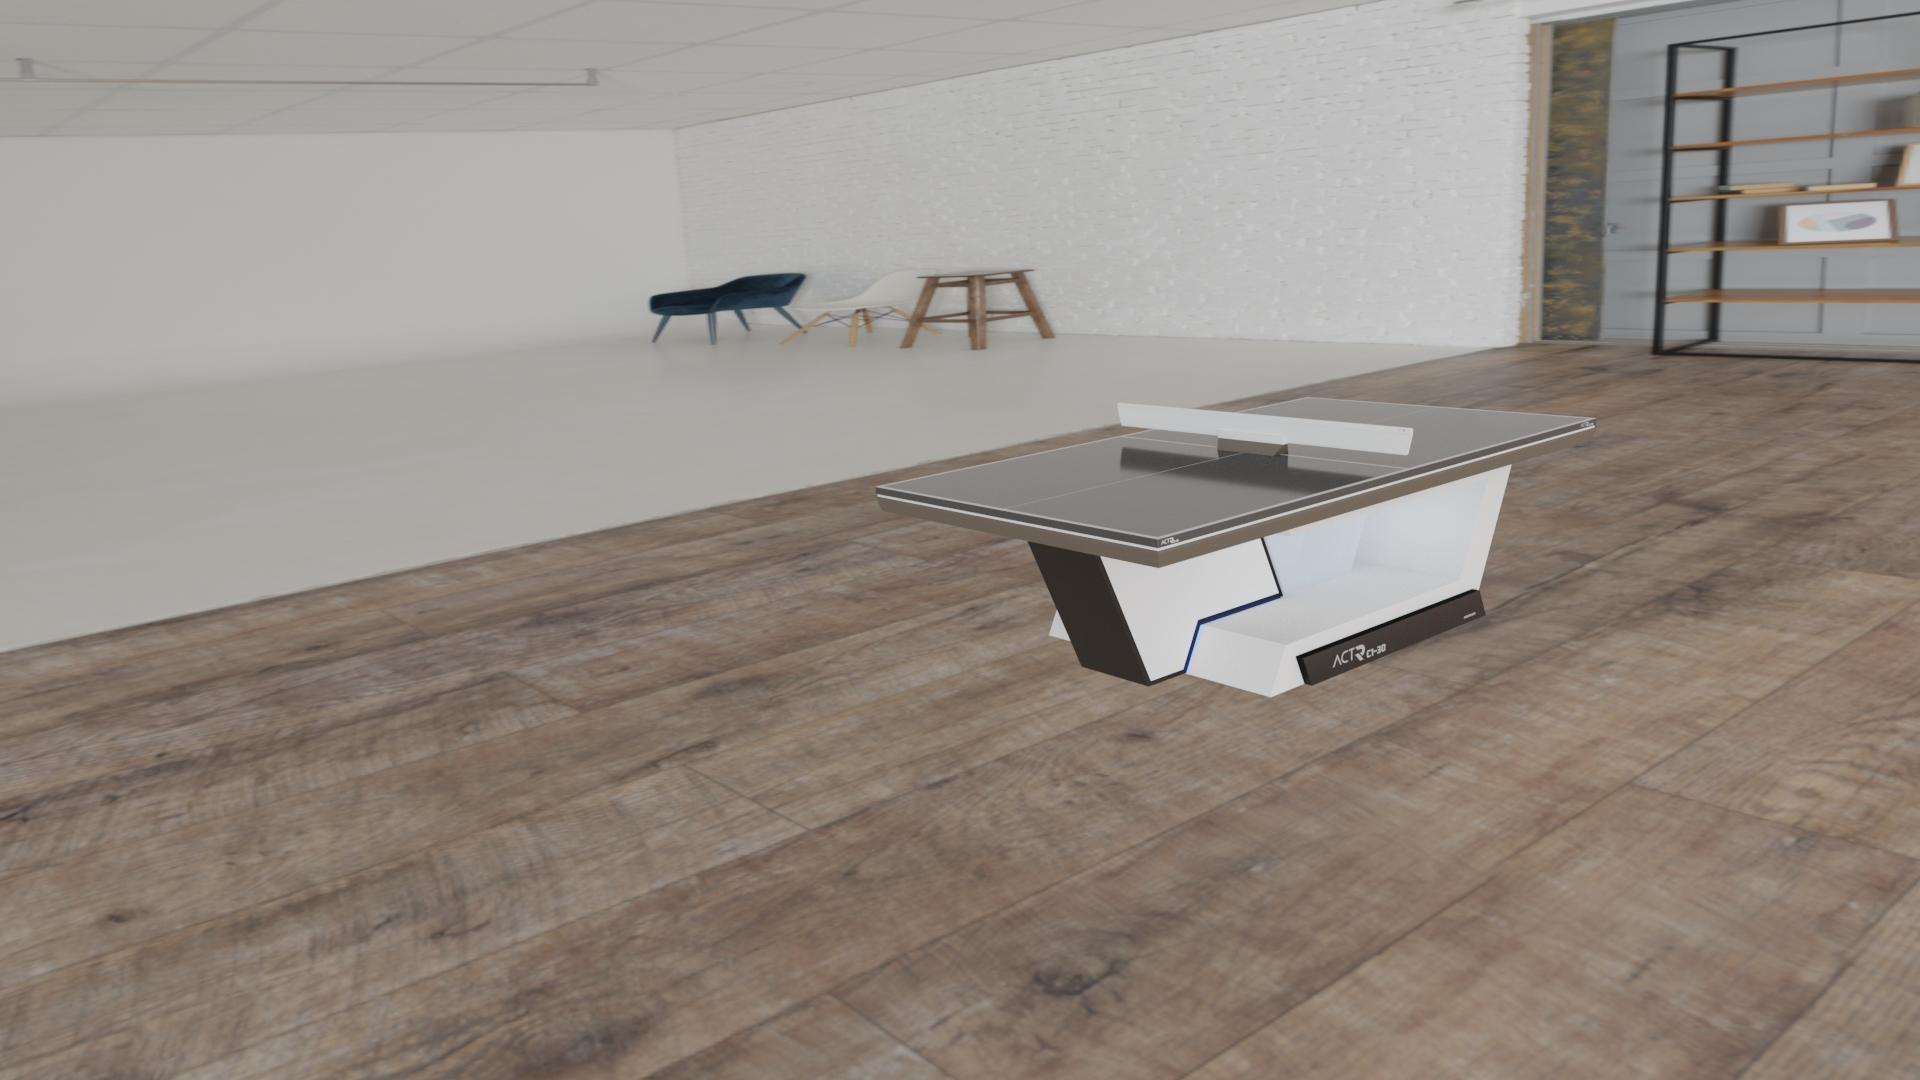table: (882, 398, 1589, 537)
